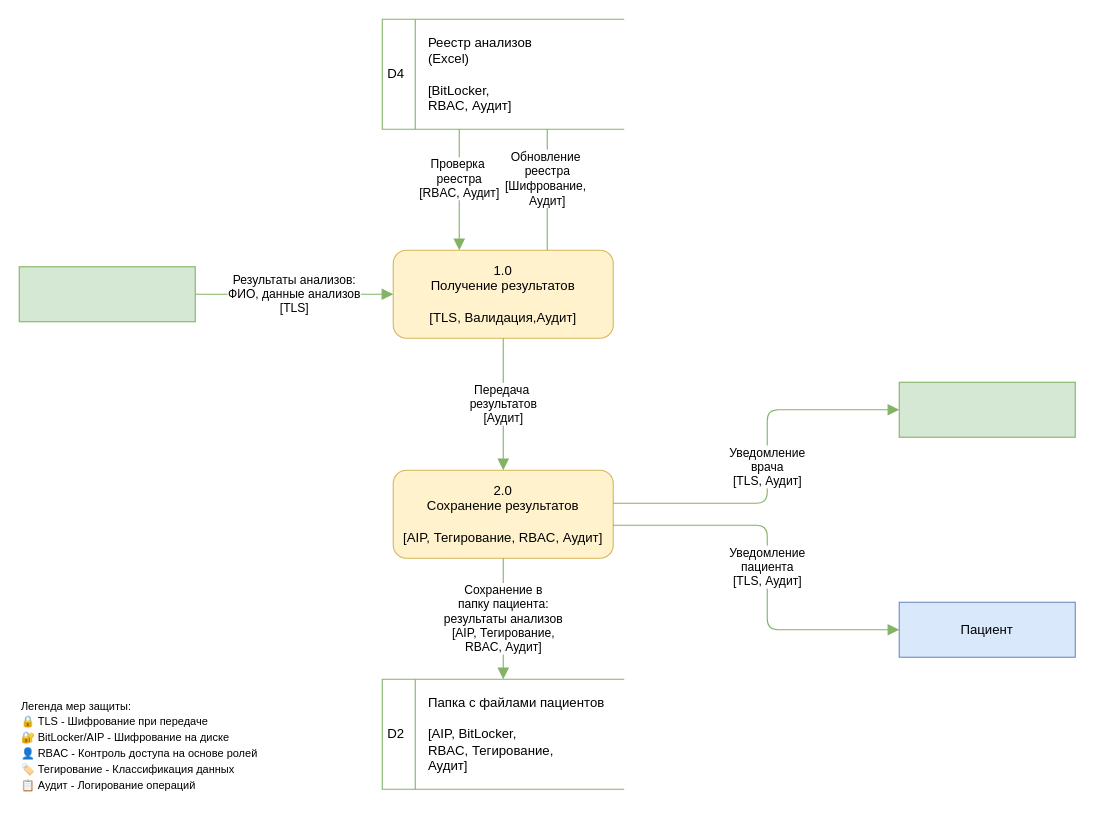
This 1095x831 diagram has some shape labels left out. Here are the shapes that lost their labels. From the top down, the centre of each, then its label:
the point at 106,294: Лаборатория
the point at 986,409: Врач
